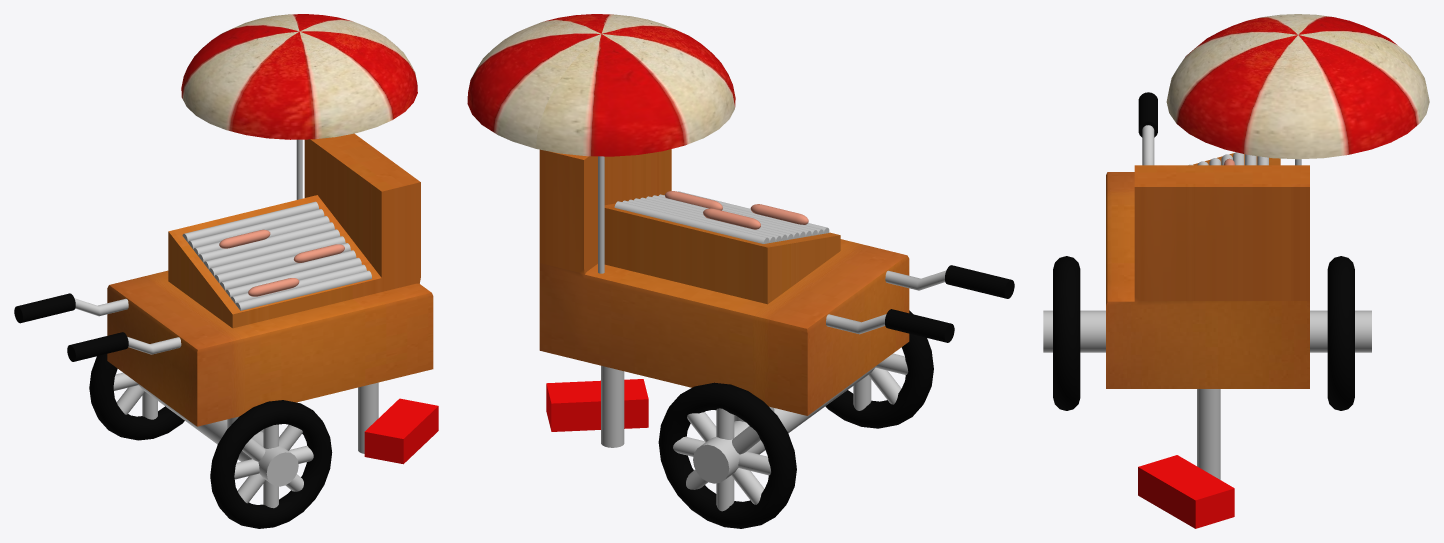
The model's file is hotdogcart+umbrella.fbx.
3 renders of one model, left to right at view 1: azimuth 30°, elevation 25°; view 2: azimuth 150°, elevation 25°; view 3: azimuth 270°, elevation 25°, orthographic. The views are drawn at different scales.
Visible parts, largest first — view 1: Cart, UmbrellaTop, Wheel, Box001, Wheel001, wheelaxel, roller2, roller4, roller8, roller9, roller10, roller6 (+17 smaller); view 2: Cart, UmbrellaTop, Wheel001, Box001, Wheel, wheelaxel, Stand, Cylinder027, Cylinder026, roller8, Cylinder022, Cylinder023 (+8 smaller); view 3: Cart, UmbrellaTop, Box001, Wheel, Wheel001, wheelaxel, Stand, Cylinder026, Handle2.
Part boxes in pixels (x1,y1,x2,y2): Cart: (107, 133, 433, 426); UmbrellaTop: (181, 14, 417, 139); Wheel: (210, 400, 332, 528); Box001: (364, 398, 438, 464); Wheel001: (89, 354, 184, 440); wheelaxel: (138, 384, 298, 486); roller2: (235, 270, 371, 310); roller4: (220, 250, 356, 290); roller8: (182, 201, 318, 242); roller9: (204, 229, 340, 269); roller10: (198, 222, 334, 262); roller6: (188, 209, 324, 248); Cart: (539, 149, 909, 415); UmbrellaTop: (467, 14, 735, 156); Wheel001: (658, 382, 796, 528); Box001: (546, 379, 648, 431); Wheel: (825, 310, 933, 428); wheelaxel: (693, 366, 875, 483); Stand: (601, 365, 624, 447); Cylinder027: (885, 309, 954, 342); Cylinder026: (945, 265, 1014, 298); roller8: (614, 201, 769, 243); Cylinder022: (687, 412, 764, 504); Cylinder023: (716, 408, 734, 511); Cart: (1106, 153, 1309, 388); UmbrellaTop: (1166, 14, 1429, 159); Box001: (1138, 455, 1234, 528); Wheel: (1053, 256, 1080, 410); Wheel001: (1327, 256, 1354, 410); wheelaxel: (1043, 310, 1371, 352); Stand: (1197, 389, 1220, 479); Cylinder026: (1138, 92, 1157, 137); Handle2: (1142, 125, 1154, 165).
Bounding box in the file's own units: 117 × 111 × 86.67.
